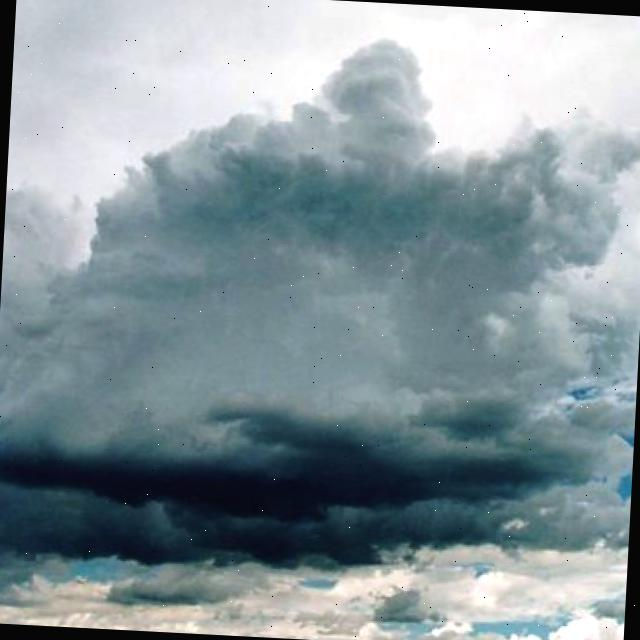Cs: (1, 31, 640, 625)
